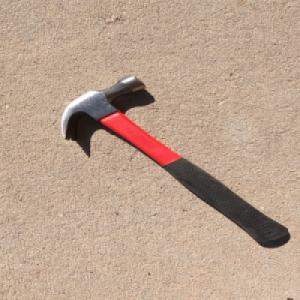Hammer: (56, 74, 294, 248)
